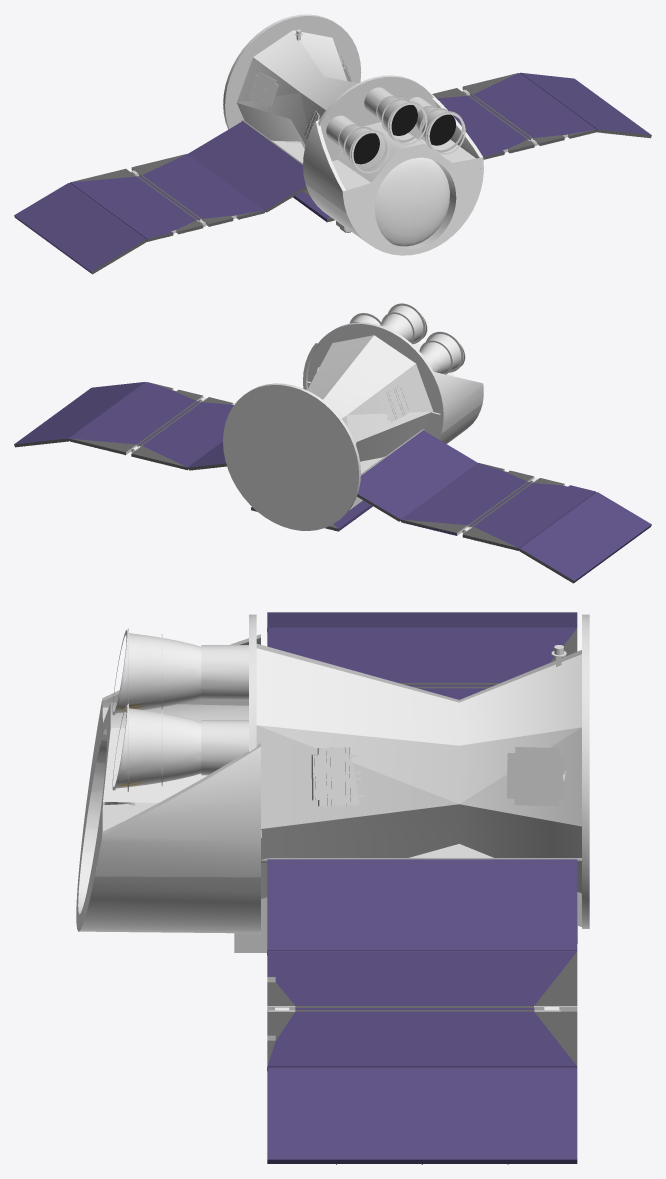
File: swas.glb
The picture shows the model from 3 angles, top to bottom: view 1: azimuth 30°, elevation 25°; view 2: azimuth 150°, elevation 25°; view 3: azimuth 270°, elevation 25°; orthographic projection. The views are drawn at different scales.
Parts seen in each view (by area): view 1: body, solar-panel; view 2: body, solar-panel; view 3: body, solar-panel.
Part boxes in pixels (<box>): body: <box>131,14,569,255</box>; solar-panel: <box>14,72,651,274</box>; body: <box>126,303,564,535</box>; solar-panel: <box>14,382,651,583</box>; body: <box>76,614,589,1040</box>; solar-panel: <box>267,612,577,1164</box>.
Size of the model in its own units: 4.11 by 1.09 by 1.63.
